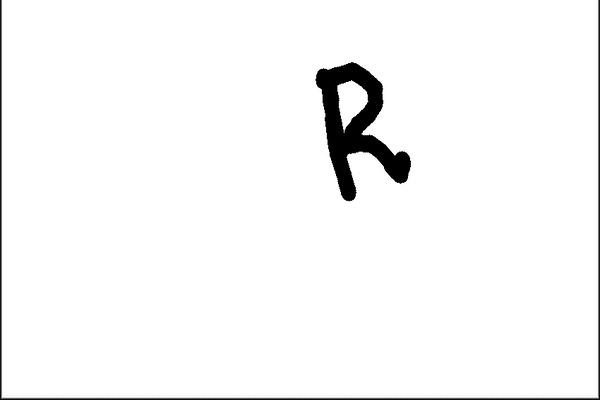R: (309, 54, 431, 202)
